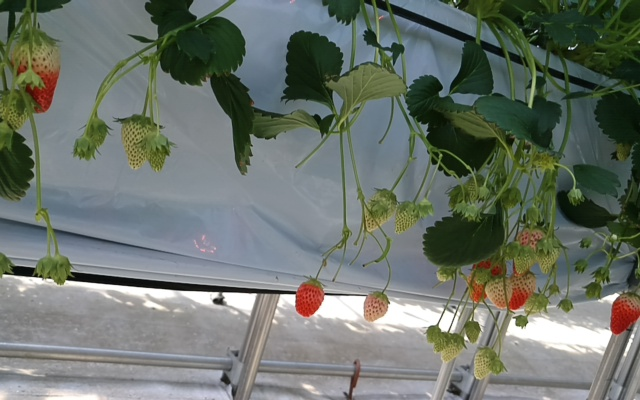GreenStrawberry: (10, 28, 60, 115), (466, 251, 508, 305), (119, 115, 155, 171), (515, 223, 550, 278), (363, 187, 397, 232), (1, 88, 33, 131), (510, 268, 539, 312), (141, 132, 171, 173), (484, 274, 514, 311), (536, 238, 563, 275), (363, 291, 391, 323), (473, 346, 497, 383), (395, 201, 422, 233), (441, 330, 465, 364), (512, 244, 536, 274), (464, 320, 481, 344), (434, 332, 451, 355), (425, 325, 440, 344)
MatureStrawberry: (609, 292, 640, 336), (294, 277, 326, 318)
